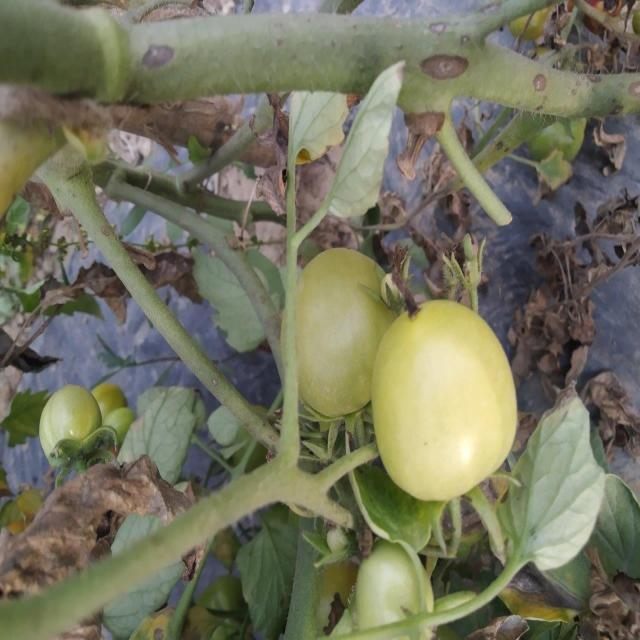Unripe: (372, 295, 519, 504)
